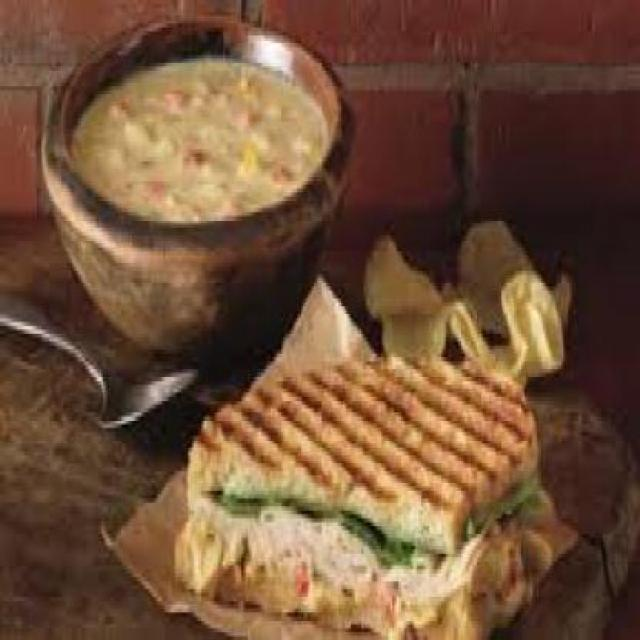clam chowder: (47, 15, 347, 298)
club sandwich: (189, 333, 562, 624)
